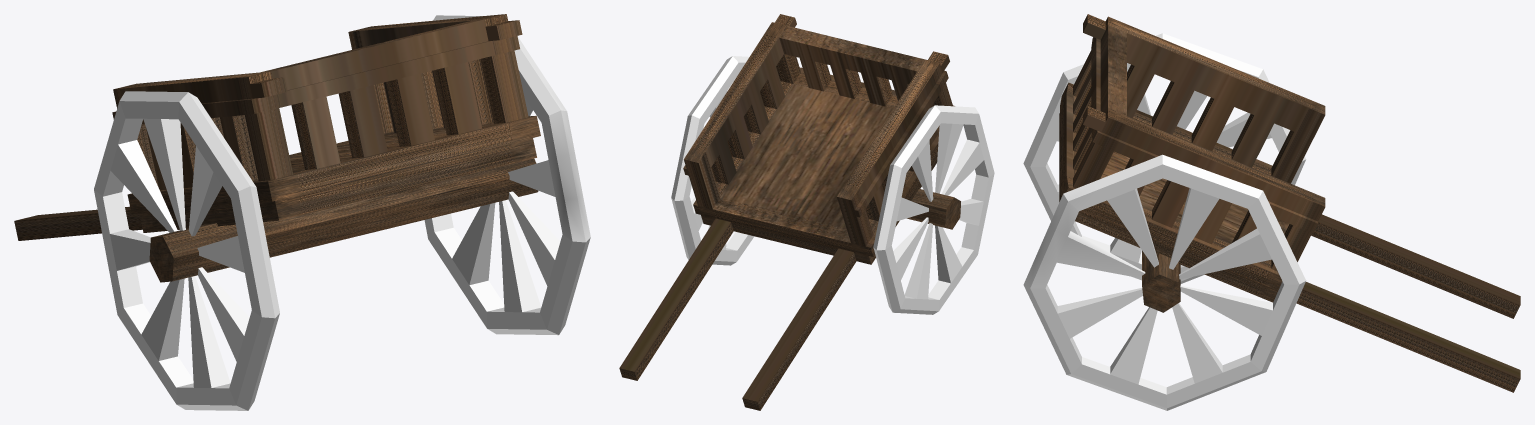
Rendered from WoodenCartWstartAnimation.fbx.
3 renders of one model, left to right at view 1: azimuth 30°, elevation 25°; view 2: azimuth 150°, elevation 25°; view 3: azimuth 270°, elevation 25°, orthographic. The views are drawn at different scales.
Visible parts, largest first — view 1: Circle, Cube, Cylinder; view 2: Cube, Circle, Cylinder; view 3: Cube, Circle, Cylinder.
Boxes of the visible parts, x1,y1,x2,y2 form: Circle: (94, 15, 590, 410); Cube: (14, 14, 540, 240); Cylinder: (149, 158, 538, 282); Cube: (619, 14, 954, 410); Circle: (671, 56, 994, 314); Cylinder: (907, 189, 960, 229); Cube: (1059, 14, 1520, 392); Circle: (1023, 33, 1306, 410); Cylinder: (1142, 250, 1180, 312).
Bounding box in the file's own units: 283 × 265 × 416.
Materials: 2 (1 with a texture image).
